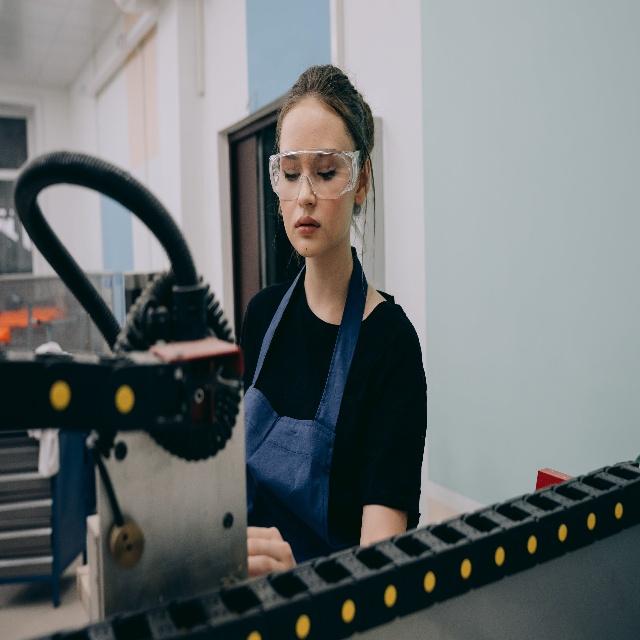Gafas: (266, 146, 361, 209)
Sin_guantes: (248, 519, 293, 574)
